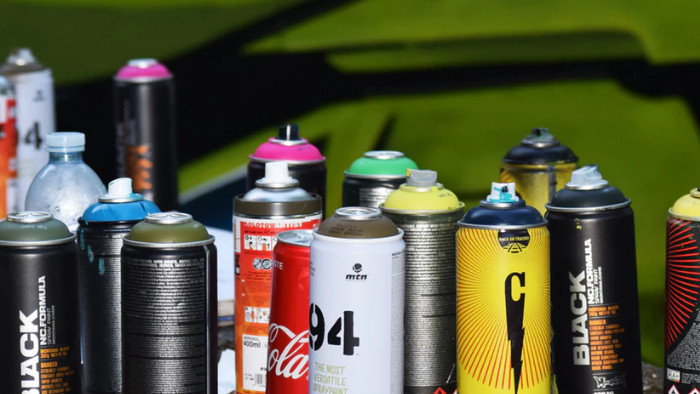Aerosol_cans: (542, 161, 643, 394), (454, 179, 553, 394), (306, 203, 408, 394), (119, 208, 221, 394)
